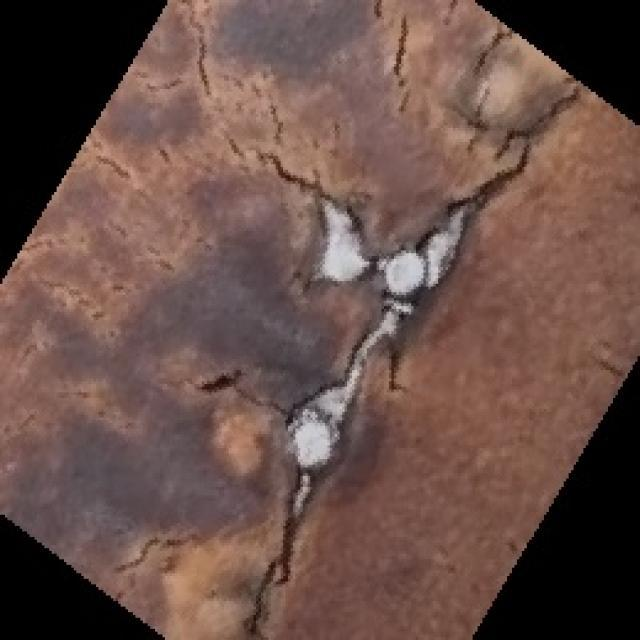crack: (237, 157, 336, 205), (208, 371, 277, 424)
